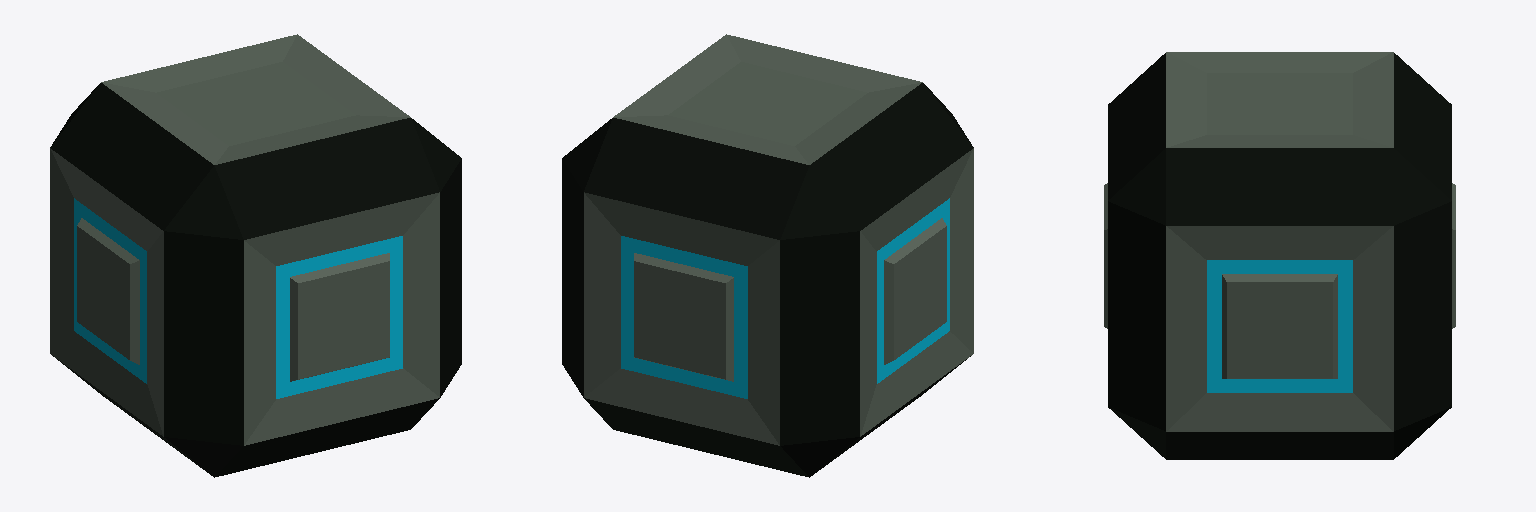
File: push_box.obj
The picture shows the model from 3 angles: view 1: azimuth 30°, elevation 25°; view 2: azimuth 150°, elevation 25°; view 3: azimuth 270°, elevation 25°; orthographic projection.
Visible parts, largest first — view 1: Cube; view 2: Cube; view 3: Cube.
Part boxes in pixels (x1,y1,x2,y2): Cube: (50,34,461,477); Cube: (562,34,973,477); Cube: (1104,52,1455,459).
Bounding box in the file's own units: 1.97 × 1.93 × 1.97.